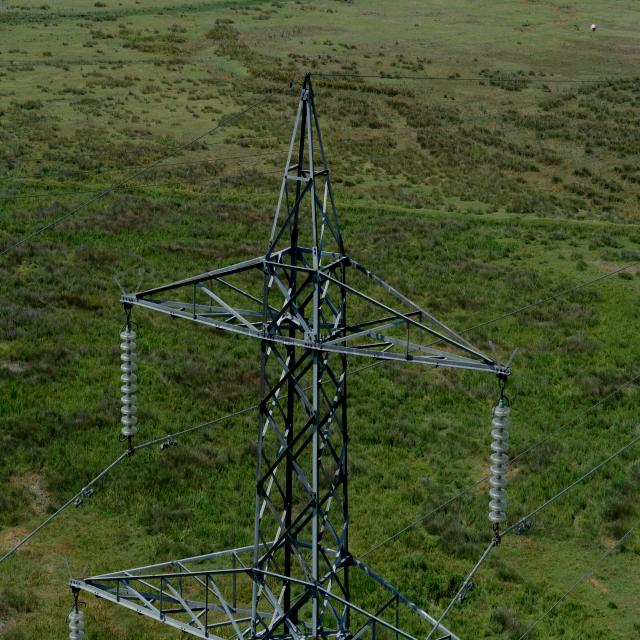voltage_line: (94, 87, 482, 640)
